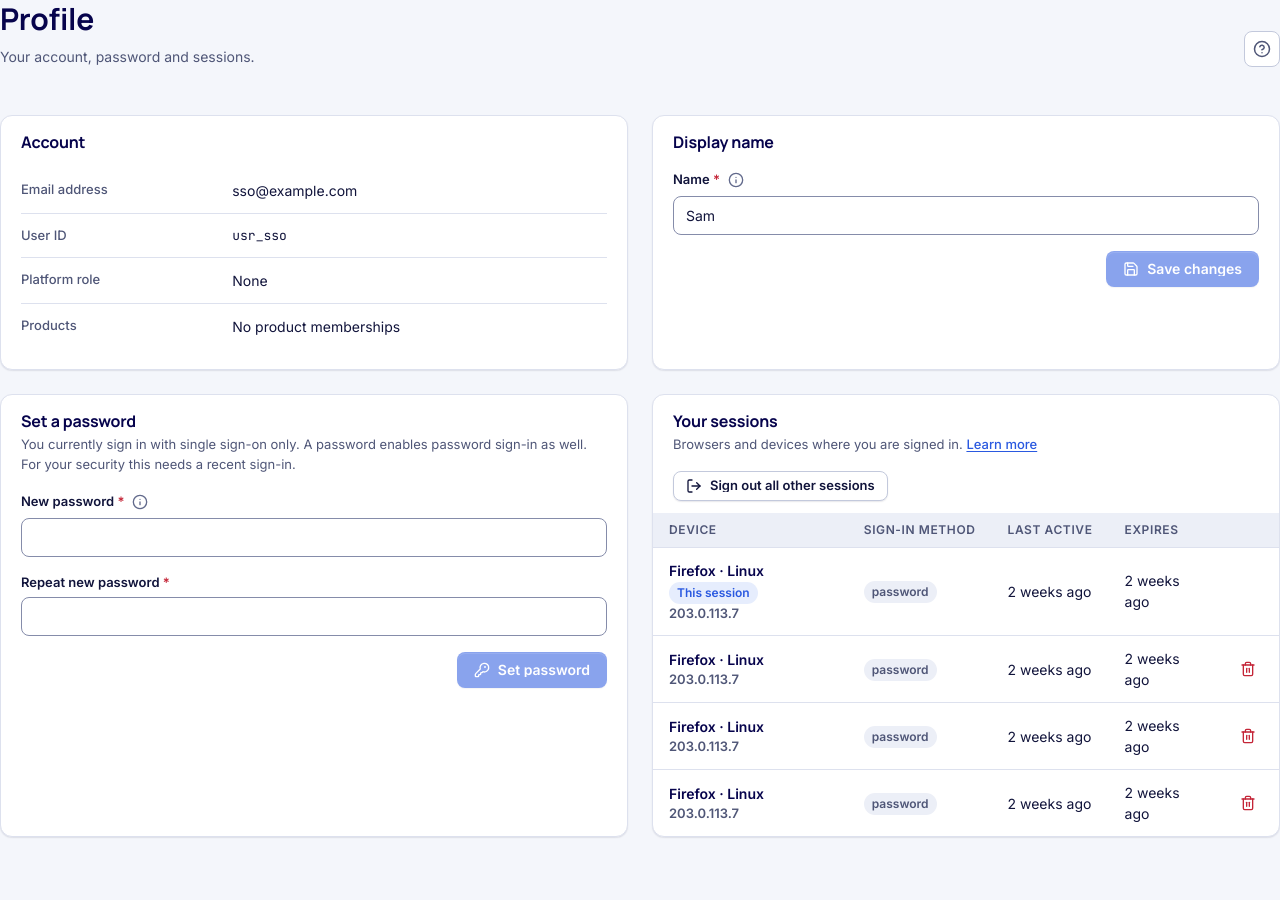
Test case: ProfilePage: sign out all other sessions › asks before revoking one session and names its device
Click the 1st button named "Revoke the session on" at coordinates (1248, 669), box [1233,654,1263,684]
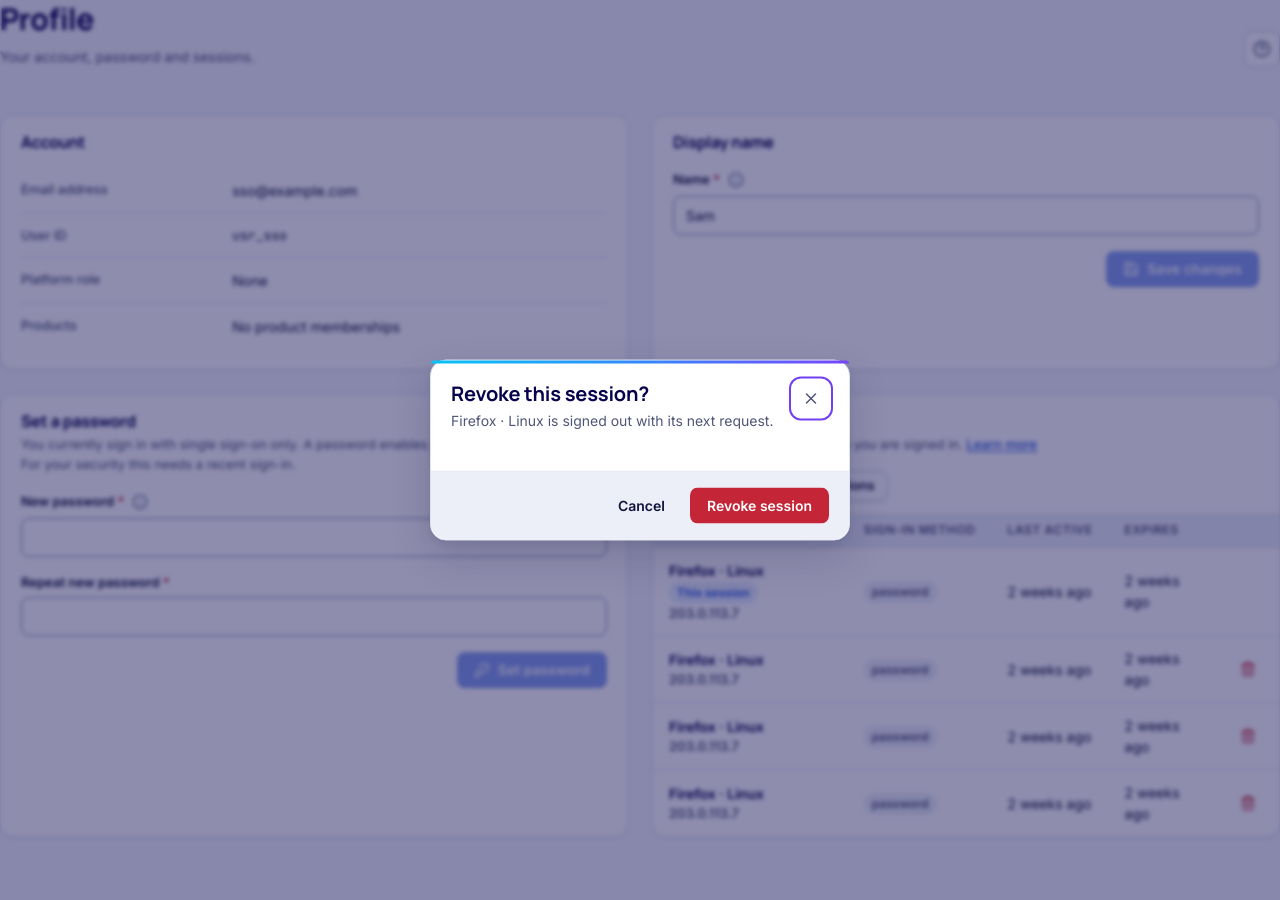
Click the button "Revoke session" at coordinates (760, 506), box [690,488,829,524]
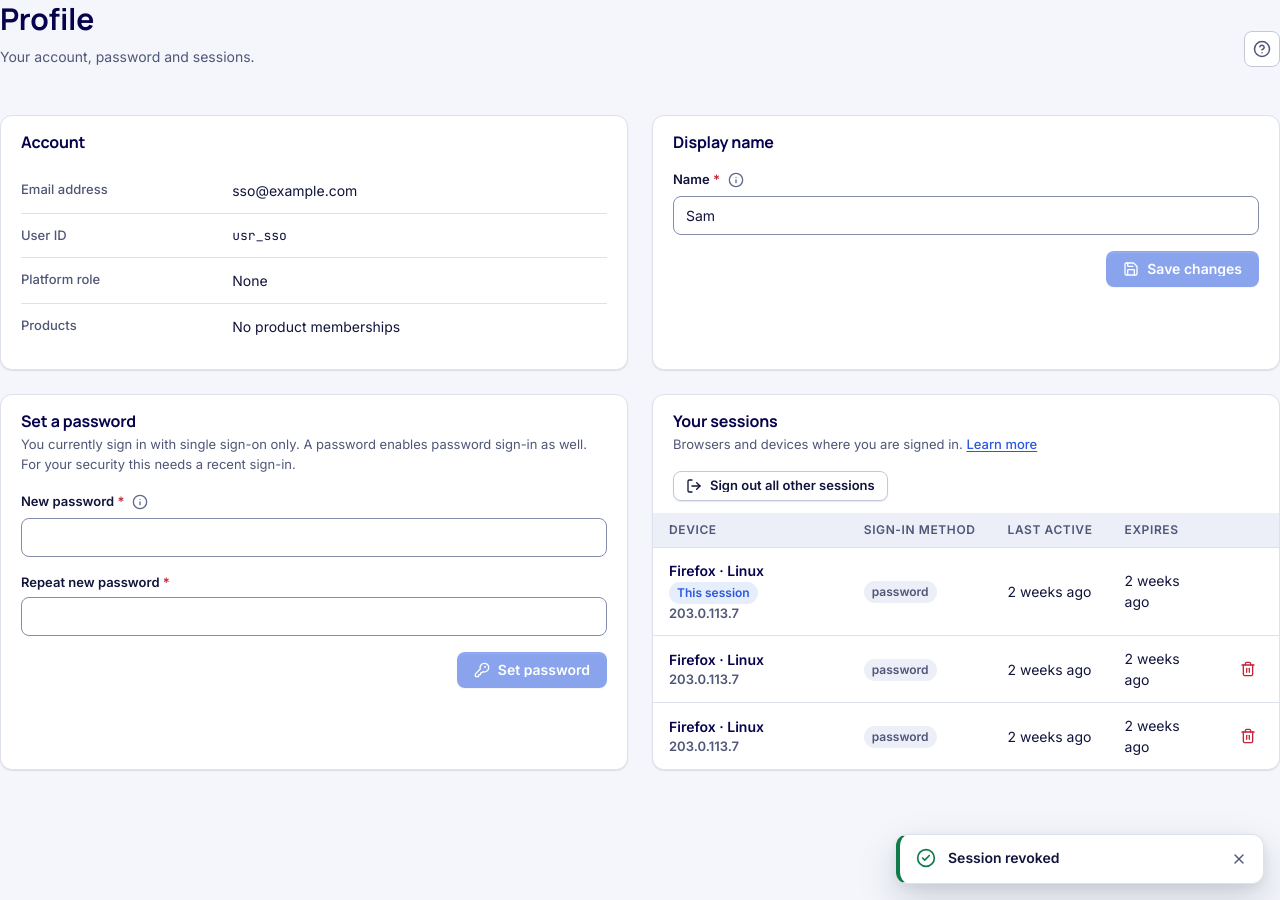
Expected: the text "Session revoked" is shown, [948,849,1060,866]
